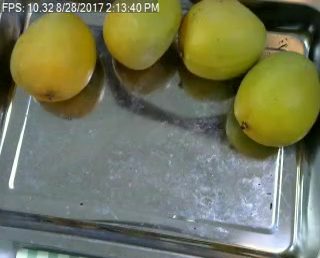Mango: (231, 51, 320, 148), (8, 10, 97, 105), (176, 0, 266, 85), (101, 1, 182, 71)
